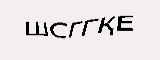А: (60, 26, 82, 47)
Д: (37, 32, 59, 52)
Е: (95, 19, 107, 39)
Т: (83, 18, 99, 43), (105, 19, 120, 37)
